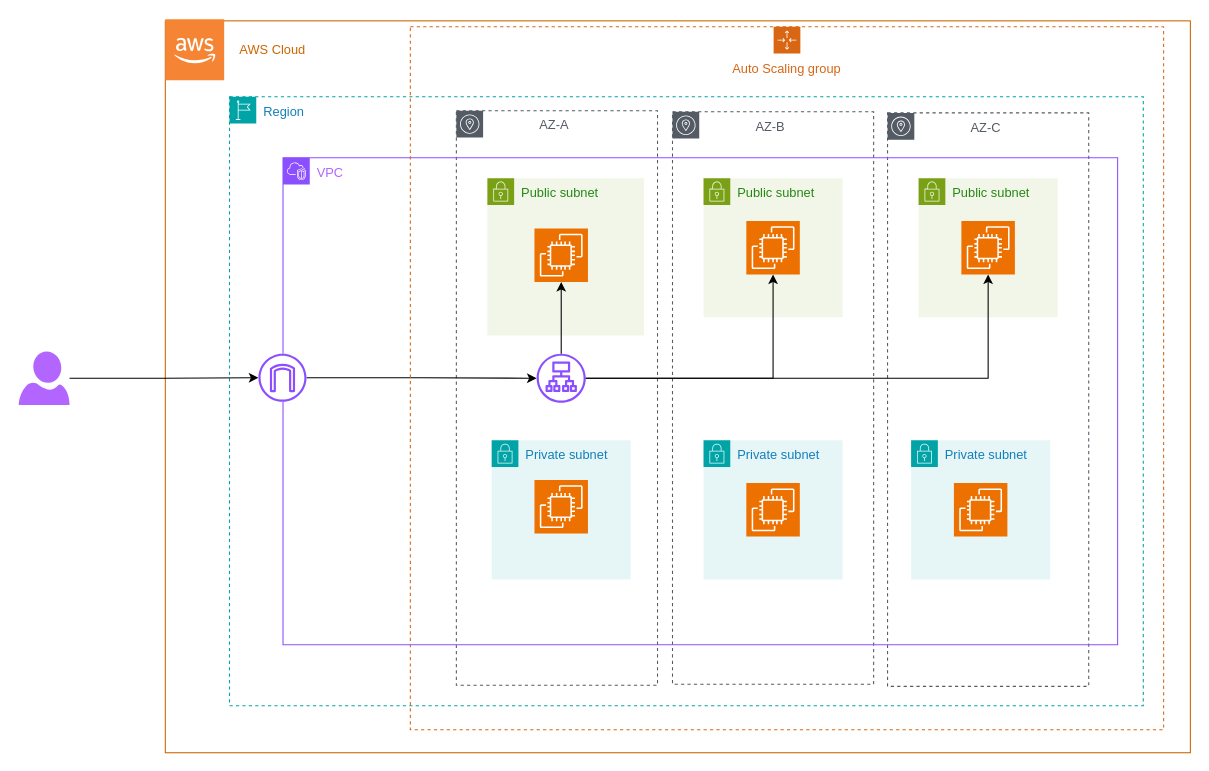
Some shapes in this 1209 by 771 pixel diagram are drawn without their labels. Here are the shapes that lost their labels. From the top down, the centre of each, then its label:
At point (282, 377): "Internet Gateway".
At point (560, 377): "ALB".
